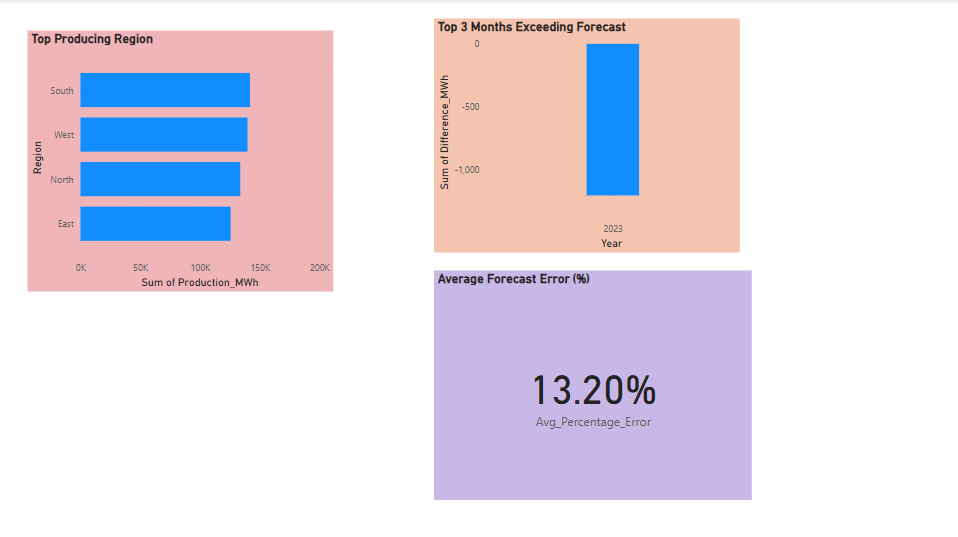

What the dashboard file says about the page in this screenshot:
{"tool":"powerbi","page":{"name":"insights","canvas":[1280,720],"ordinal":1},"visuals":[{"type":"clusteredBarChart","title":"Top Producing Region","fields":{"Y":["Sum(renewable_energy_forecast.Production_MWh)"],"Category":["renewable_energy_forecast.Region"]},"box":[37.8,41.8,406.3,346.6],"z":0},{"type":"clusteredColumnChart","title":"Top 3 Months Exceeding Forecast","fields":{"Category":["renewable_energy_forecast.Month.Variation.Date Hierarchy.Year","renewable_energy_forecast.Month.Variation.Date Hierarchy.Quarter","renewable_energy_forecast.Month.Variation.Date Hierarchy.Month","renewable_energy_forecast.Month.Variation.Date Hierarchy.Day"],"Y":["Sum(renewable_energy_forecast.Difference_MWh)"]},"box":[577.6,25.9,406.3,310.7],"z":1},{"type":"card","title":"Average Forecast Error (%)","fields":{"Values":["renewable_energy_forecast.Avg_Percentage_Error"]},"box":[577.6,360.5,422.2,304.7],"z":2}]}

Visuals, with their boxes in screenshot pixels (x1, y1, x2, y2), scaled from the page's 1280x720 canvas onto the 958x537 screenshot:
"Top Producing Region" clusteredBarChart: (28, 31, 332, 290)
"Top 3 Months Exceeding Forecast" clusteredColumnChart: (432, 19, 736, 251)
"Average Forecast Error (%)" card: (432, 269, 748, 496)
